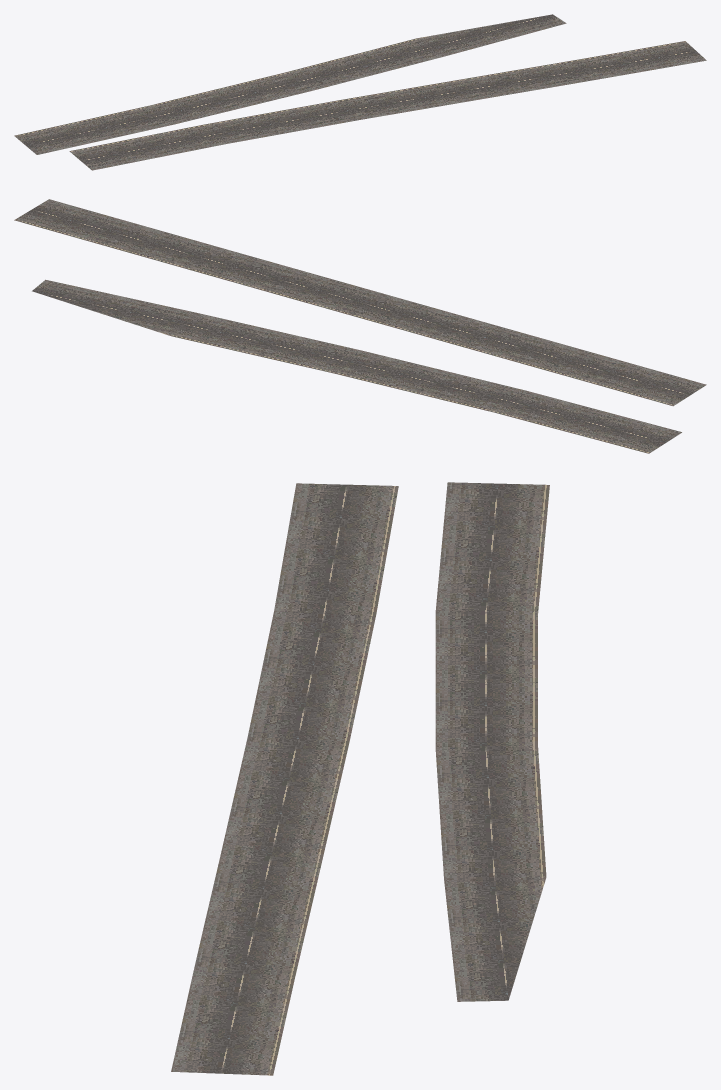
File: cs_lodroads26.obj
The picture shows the model from 3 angles, top to bottom: view 1: azimuth 30°, elevation 25°; view 2: azimuth 150°, elevation 25°; view 3: azimuth 270°, elevation 25°; orthographic projection. The views are drawn at different scales.
Parts seen in each view (by area): view 1: cs_lodroads26; view 2: cs_lodroads26; view 3: cs_lodroads26.
Boxes of the visible parts, x1,y1,x2,y2 form: cs_lodroads26: (14,14,706,170); cs_lodroads26: (14,199,706,453); cs_lodroads26: (171,482,549,1075).
Bounding box in the file's own units: 163 × 2.44 × 44.33.
1 material, 1 textured.
